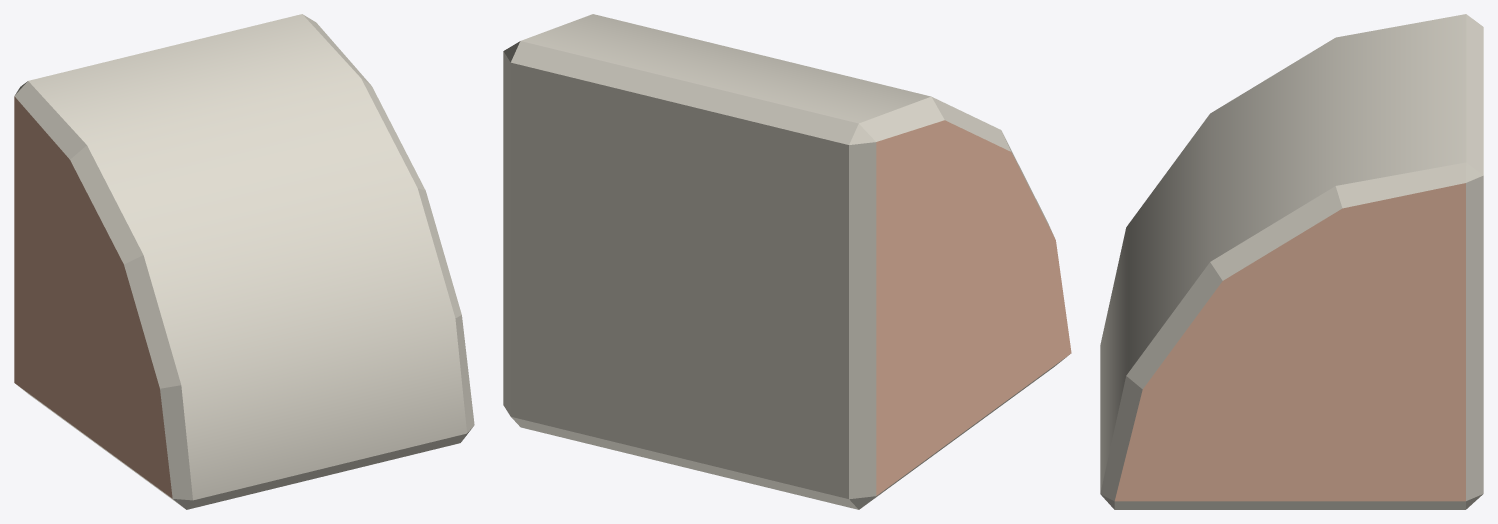
File: R4B_RoundEdge_LOD1.fbx
3 views of the same model, side by side, from view 1: azimuth 30°, elevation 25°; view 2: azimuth 150°, elevation 25°; view 3: azimuth 270°, elevation 25° (orthographic). The views are drawn at different scales.
Parts seen in each view (by area): view 1: R4B_RoundEdge_LOD1; view 2: R4B_RoundEdge_LOD1; view 3: R4B_RoundEdge_LOD1.
Boxes of the visible parts, x1,y1,x2,y2 form: R4B_RoundEdge_LOD1: [14, 14, 474, 509]; R4B_RoundEdge_LOD1: [503, 14, 1071, 509]; R4B_RoundEdge_LOD1: [1100, 14, 1483, 509].
Size of the model in its own units: 0.52 by 0.5153 by 0.5153.
